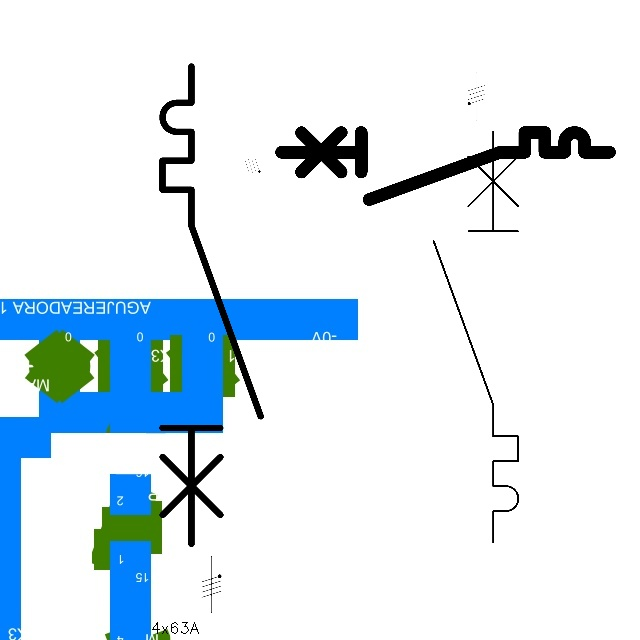interruptor_termomagnetico: (150, 54, 273, 556), (423, 120, 529, 552), (273, 124, 618, 208)
